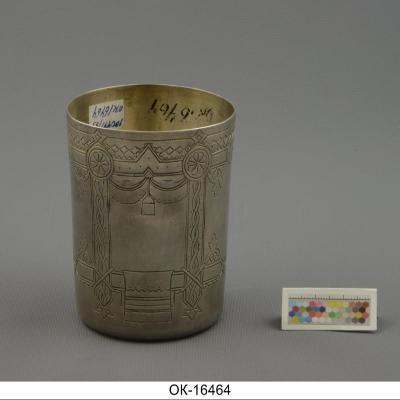dpi: (65, 84, 236, 344)
